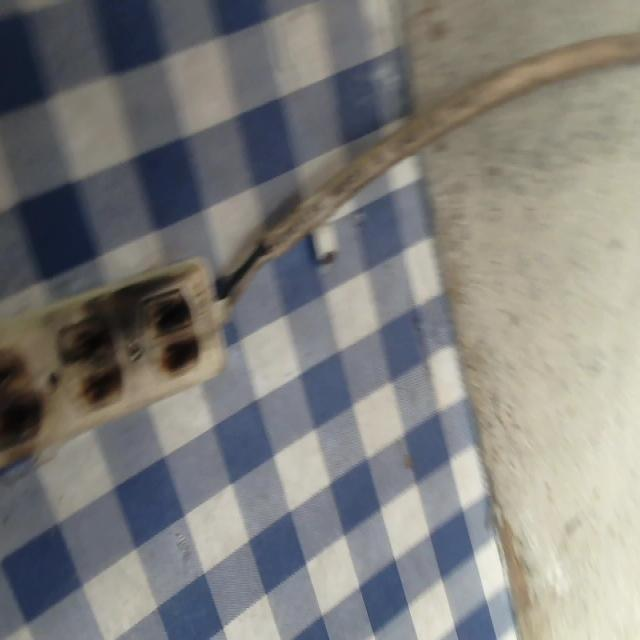-: (136, 274, 206, 378), (53, 317, 123, 416)
